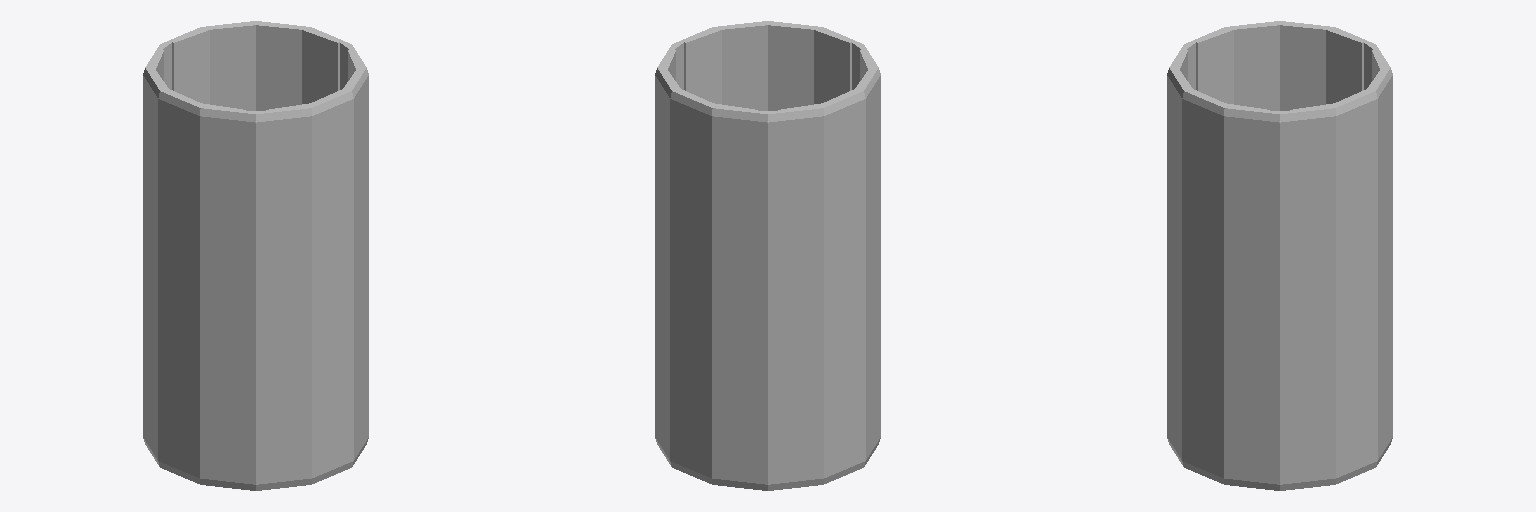
Rendered from 71. Втулка блока заднего хода.obj.
The picture shows the model from 3 angles: view 1: azimuth 30°, elevation 25°; view 2: azimuth 150°, elevation 25°; view 3: azimuth 270°, elevation 25°; orthographic projection.
Visible parts, largest first — view 1: Твердое тело1; view 2: Твердое тело1; view 3: Твердое тело1.
Boxes of the visible parts, <box> form: Твердое тело1: <box>143,21,368,490</box>; Твердое тело1: <box>655,21,880,490</box>; Твердое тело1: <box>1167,21,1392,490</box>.
Size of the model in its own units: 28.25 by 52 by 28.25.